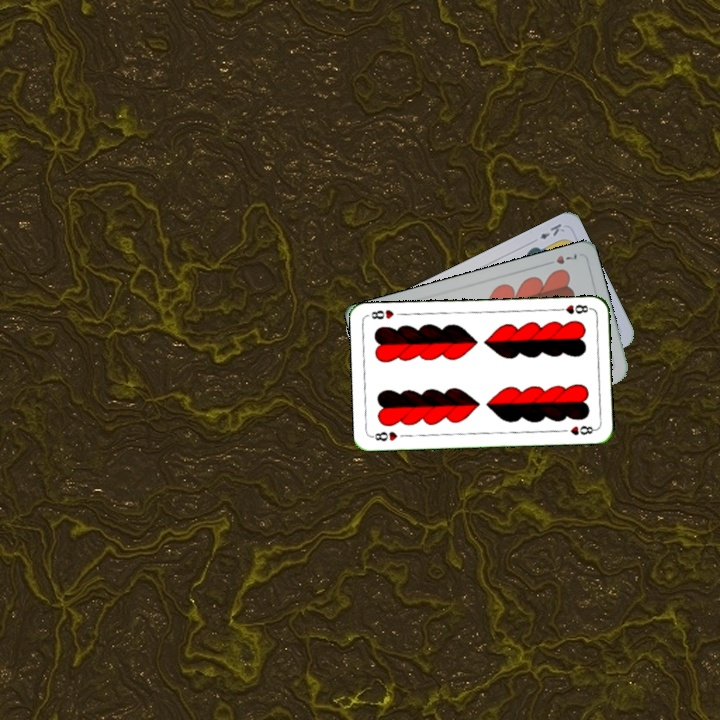EK: (528, 219, 567, 246)
H7: (541, 249, 580, 268)
H8: (553, 300, 593, 316), (368, 427, 400, 443)
